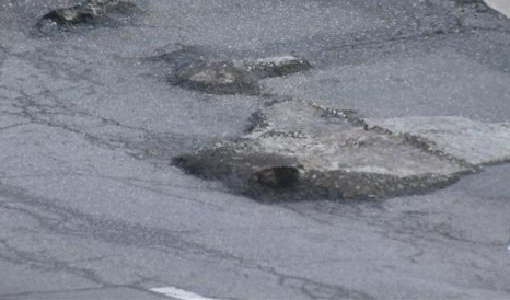pothole: (166, 99, 481, 209), (157, 53, 312, 99), (28, 1, 148, 41)
